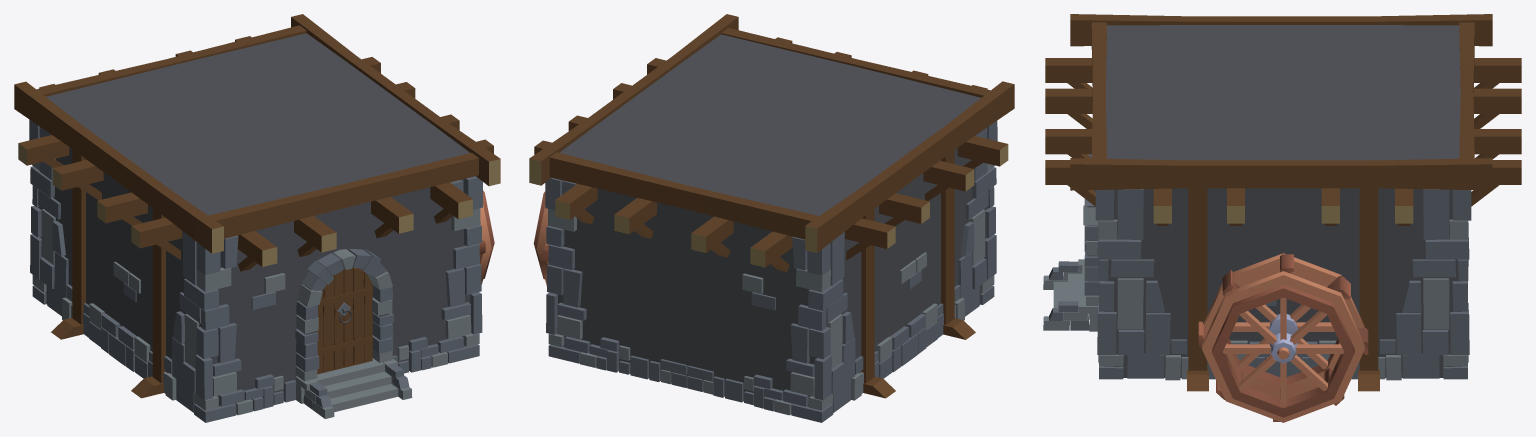
File: london_bld_mill.glb
The picture shows the model from 3 angles, left to right: view 1: azimuth 30°, elevation 25°; view 2: azimuth 150°, elevation 25°; view 3: azimuth 270°, elevation 25°; orthographic projection. The views are drawn at different scales.
Parts seen in each view (by area): view 1: House_4, watermill; view 2: House_4, watermill; view 3: House_4, watermill.
Part boxes in pixels (bbox=[...]): House_4: bbox=[14, 14, 500, 422]; watermill: bbox=[479, 190, 494, 284]; House_4: bbox=[529, 14, 1014, 422]; watermill: bbox=[533, 191, 549, 285]; House_4: bbox=[1043, 14, 1521, 391]; watermill: bbox=[1198, 253, 1368, 422].
Bounding box in the file's own units: 9.08 × 4.93 × 9.13.
Materials: 6 (1 with a texture image).
